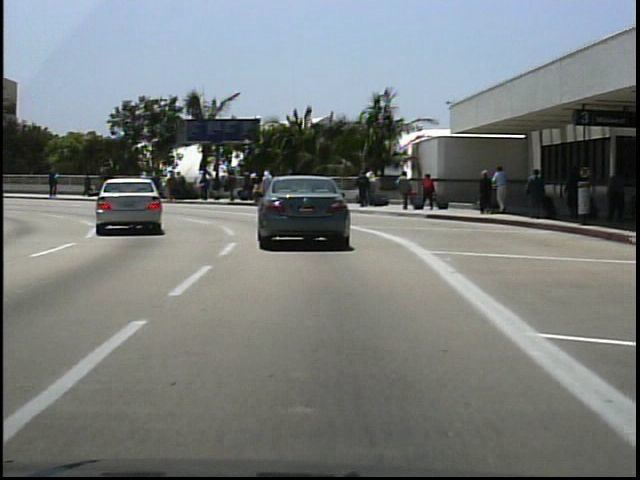person: (603, 165, 630, 227), (522, 166, 548, 223), (563, 161, 586, 222), (476, 168, 497, 220), (494, 164, 514, 216), (396, 170, 416, 213), (421, 170, 439, 212), (356, 170, 373, 209), (100, 168, 119, 198), (47, 166, 63, 200), (82, 170, 100, 198)
